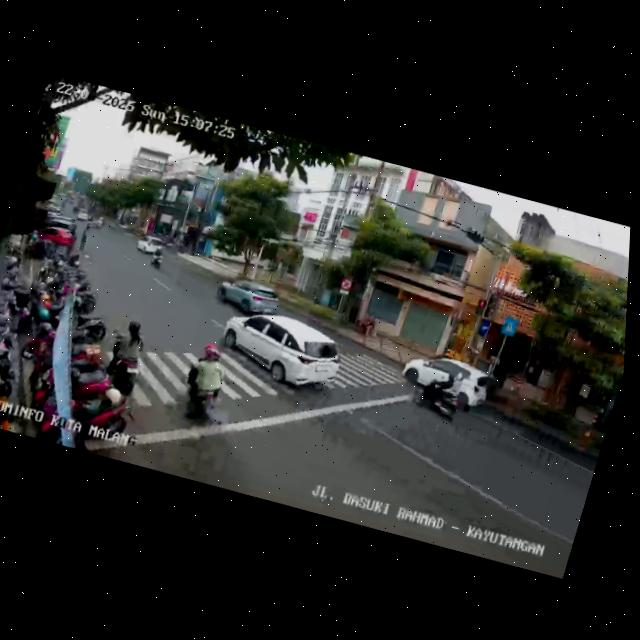car: (211, 301, 352, 406), (395, 343, 497, 417), (212, 271, 287, 323), (27, 209, 84, 263), (133, 230, 168, 258)
motorcycle: (175, 343, 233, 427), (405, 360, 472, 427), (100, 315, 153, 395), (148, 239, 168, 271)
